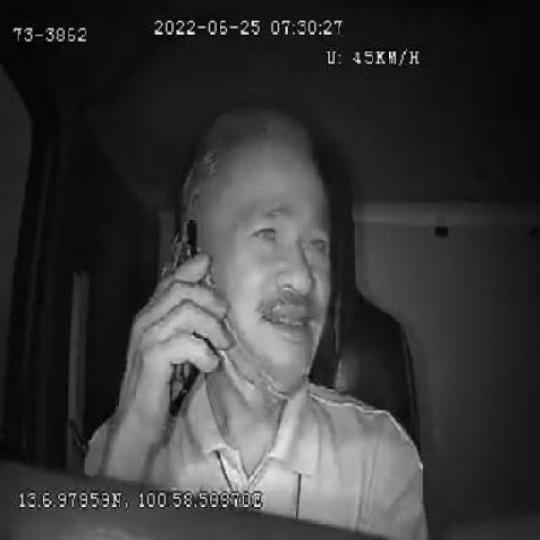phone: (160, 216, 208, 408)
